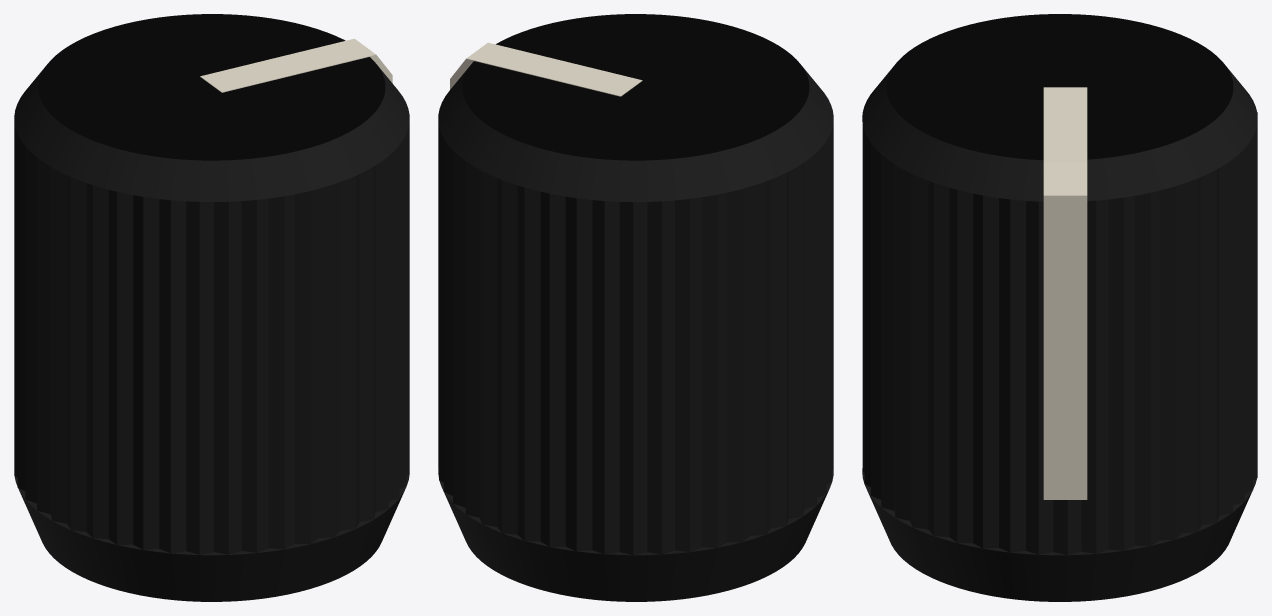
Rendered from knob1.gltf.
3 views of the same model, side by side, from view 1: azimuth 30°, elevation 25°; view 2: azimuth 150°, elevation 25°; view 3: azimuth 270°, elevation 25° (orthographic).
Parts seen in each view (by area): view 1: Body, Dial; view 2: Body, Dial; view 3: Body, Dial.
Part boxes in pixels (<box>): Body: <box>14,14,409,601</box>; Dial: <box>200,38,392,92</box>; Body: <box>438,14,833,601</box>; Dial: <box>450,42,642,96</box>; Body: <box>862,14,1257,601</box>; Dial: <box>1043,87,1087,499</box>.
Bounding box in the file's own units: 1.63 × 2 × 1.62.
